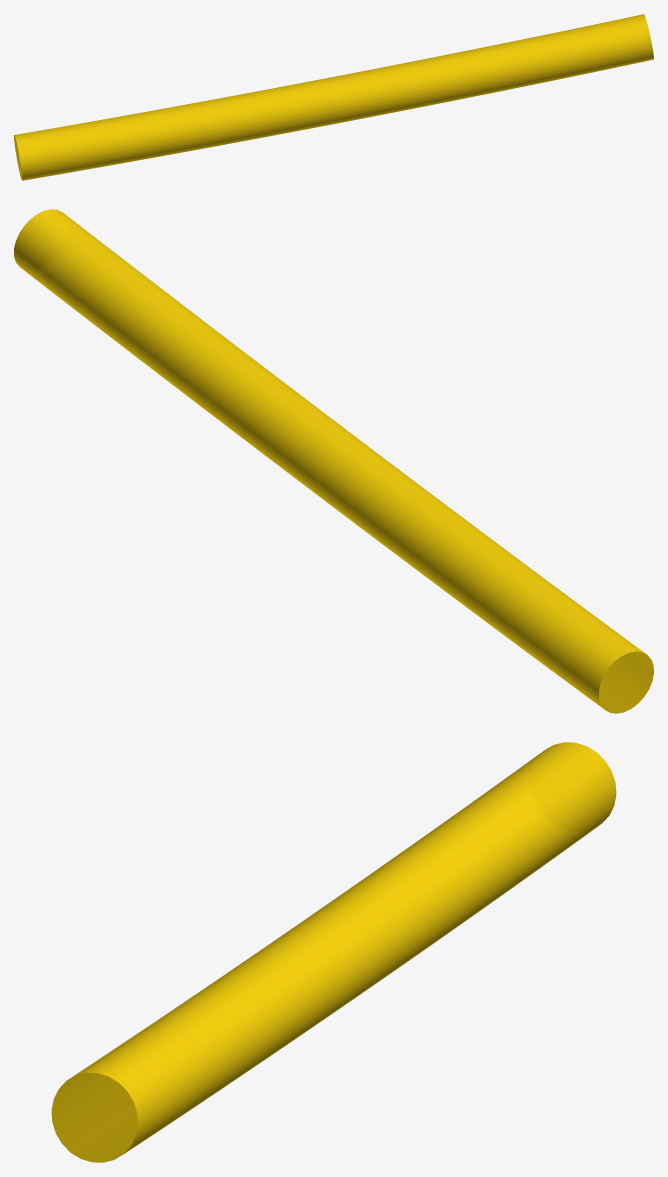
File: Event_420107950_track_1.fbx
3 views of the same model, one above another, from view 1: azimuth 30°, elevation 25°; view 2: azimuth 150°, elevation 25°; view 3: azimuth 270°, elevation 25° (orthographic). The views are drawn at different scales.
Parts seen in each view (by area): view 1: Model; view 2: Model; view 3: Model.
Boxes of the visible parts, x1,y1,x2,y2 form: Model: (14,14,653,180); Model: (14,209,653,713); Model: (51,742,616,1162).
Bounding box in the file's own units: 0.5225 × 0.1191 × 0.2425.
